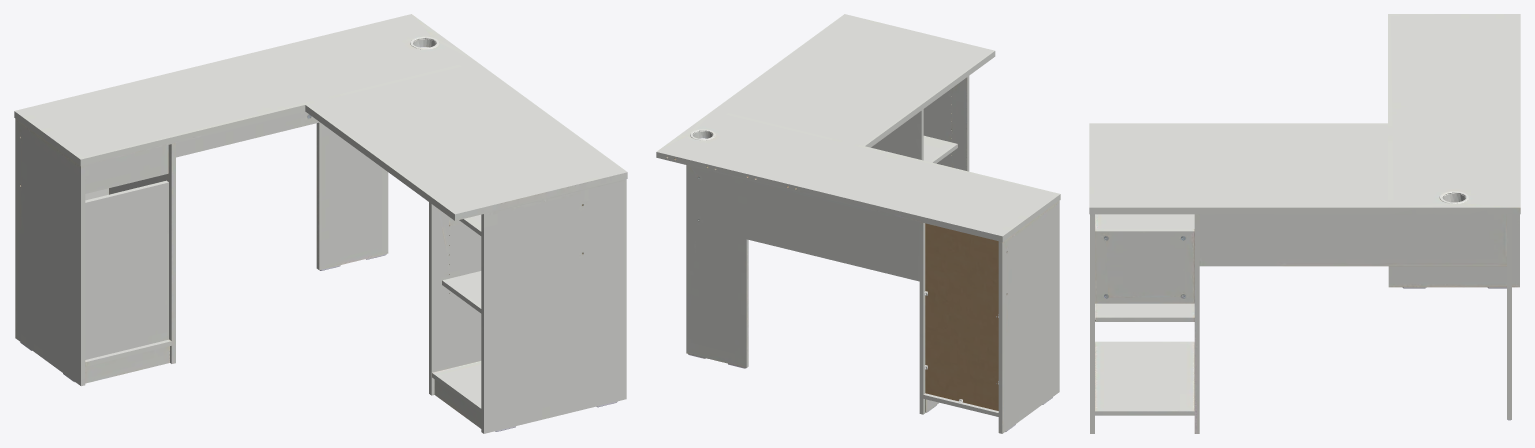
3 renders of one model, left to right at view 1: azimuth 30°, elevation 25°; view 2: azimuth 150°, elevation 25°; view 3: azimuth 270°, elevation 25°, orthographic. The views are drawn at different scales.
Visible parts, largest first — view 1: 6459506d-61ae-4b2f-b152-b430734f2385; view 2: 6459506d-61ae-4b2f-b152-b430734f2385; view 3: 6459506d-61ae-4b2f-b152-b430734f2385.
Boxes of the visible parts, box(x1,y1,x2,y2) form: 6459506d-61ae-4b2f-b152-b430734f2385: box(14, 14, 627, 433); 6459506d-61ae-4b2f-b152-b430734f2385: box(656, 14, 1060, 433); 6459506d-61ae-4b2f-b152-b430734f2385: box(1089, 14, 1520, 433).
Size of the model in its own units: 1.38 by 0.76 by 1.3.
Materials: 1 (1 with a texture image).
